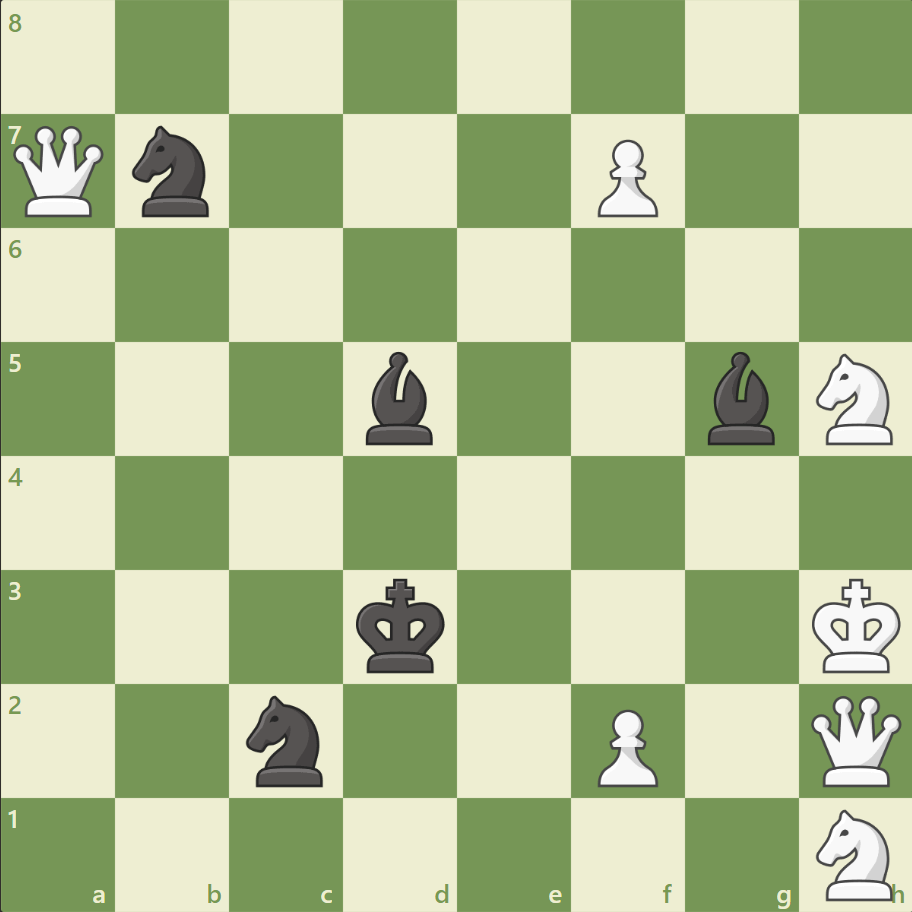K: (806, 571, 906, 679)
N: (806, 348, 903, 450), (806, 802, 903, 904)
P: (588, 132, 662, 223), (588, 700, 662, 791)
Q: (10, 122, 109, 222), (805, 690, 904, 789)
b: (358, 347, 442, 449), (698, 347, 782, 449)
k: (351, 571, 451, 679)
n: (124, 121, 222, 223), (238, 688, 335, 791)
